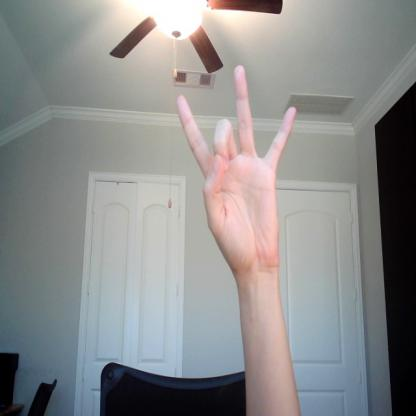eight: (171, 62, 301, 274)
